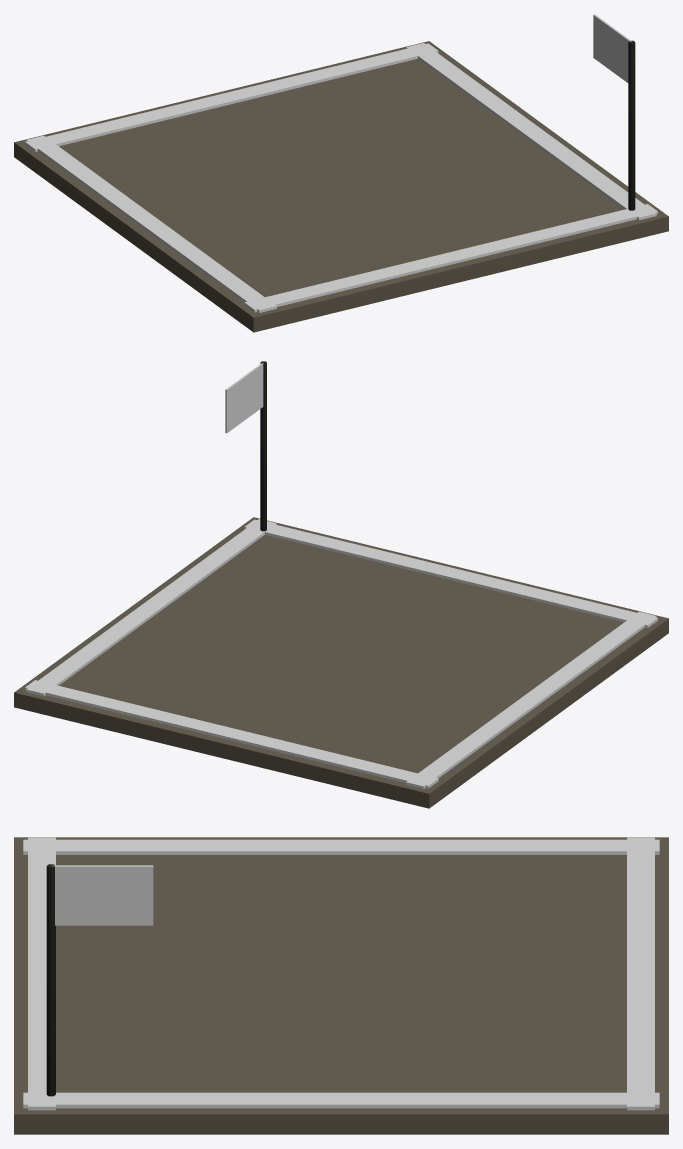
Rendered from m_shipyard_1ab3989e.glb.
3 renders of one model, top to bottom at view 1: azimuth 30°, elevation 25°; view 2: azimuth 150°, elevation 25°; view 3: azimuth 270°, elevation 25°, orthographic. The views are drawn at different scales.
Visible parts, largest first — view 1: mesh; view 2: mesh; view 3: mesh.
Boxes of the visible parts, x1,y1,x2,y2 form: mesh: (14,14,668,332); mesh: (14,361,668,808); mesh: (14,837,668,1134).
Bounding box in the file's own units: 70.43 × 30 × 70.43.
